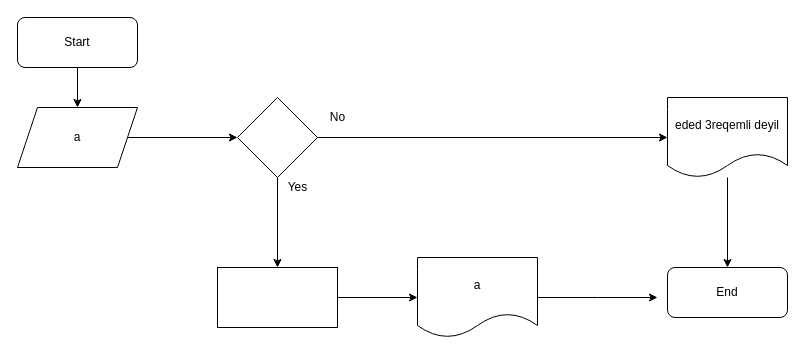
The diagram is 805 pixels wide and 355 high, and some of its shapes have lost their labels. Each missing label, with the centre of its shape:
"a x 10 + 7 a x 0.07" belongs at (277,297).
"a>=100 a<1000" belongs at (277,137).
